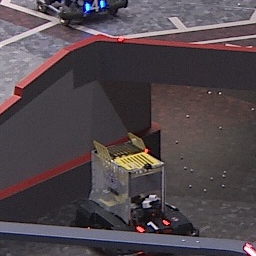Blue: (83, 1, 106, 11)
Red: (135, 219, 172, 231)
Robot: (76, 131, 200, 256), (34, 1, 130, 24)
